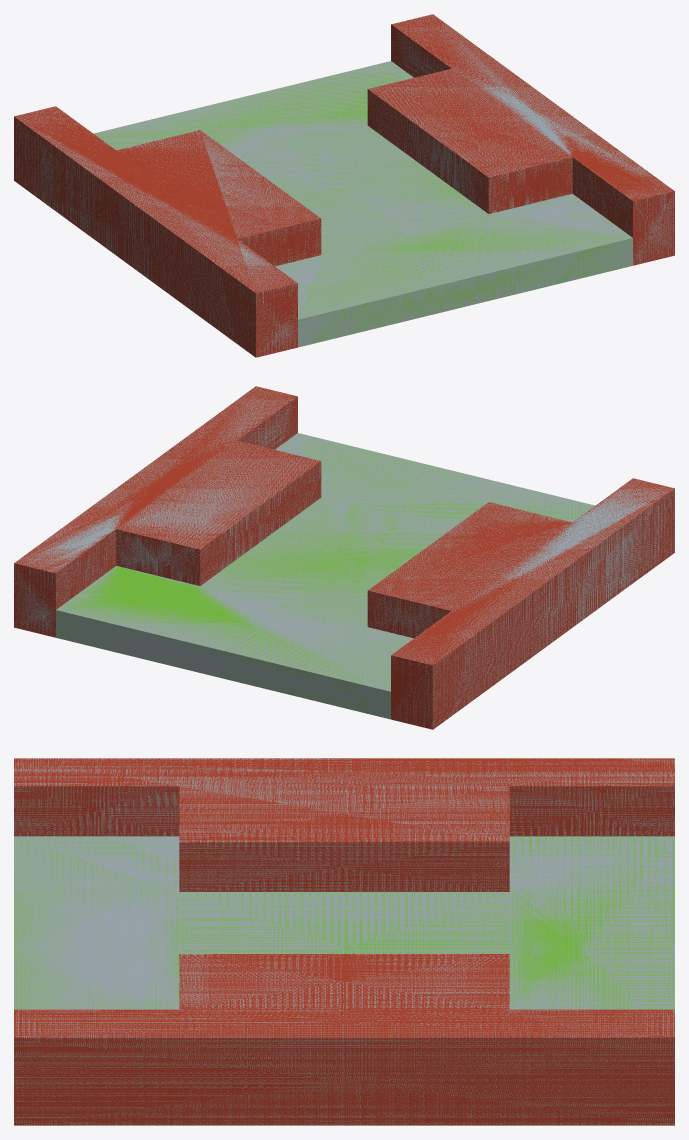
File: Narrow_block_01.obj
The picture shows the model from 3 angles, top to bottom: view 1: azimuth 30°, elevation 25°; view 2: azimuth 150°, elevation 25°; view 3: azimuth 270°, elevation 25°; orthographic projection. The views are drawn at different scales.
Parts seen in each view (by area): view 1: Mesh1 Narrow_block Model; view 2: Mesh1 Narrow_block Model; view 3: Mesh1 Narrow_block Model.
Part boxes in pixels (bbox=[...]): Mesh1 Narrow_block Model: bbox=[14, 14, 674, 357]; Mesh1 Narrow_block Model: bbox=[14, 386, 674, 729]; Mesh1 Narrow_block Model: bbox=[14, 758, 674, 1125].
Bounding box in the file's own units: 3 × 0.44 × 3.
